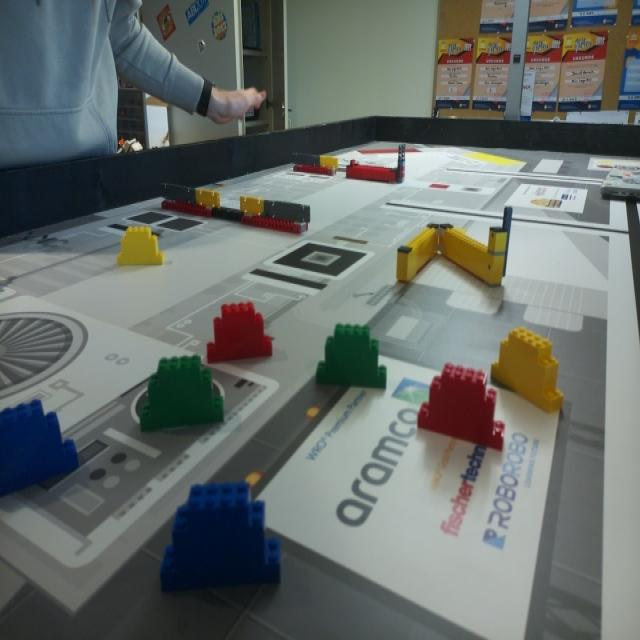blau: (160, 487, 282, 595), (0, 392, 77, 496)
gruen: (142, 358, 223, 430), (317, 322, 386, 388)
rot: (424, 364, 505, 451), (206, 302, 272, 361)
yellow: (492, 330, 564, 410), (117, 226, 162, 266)
